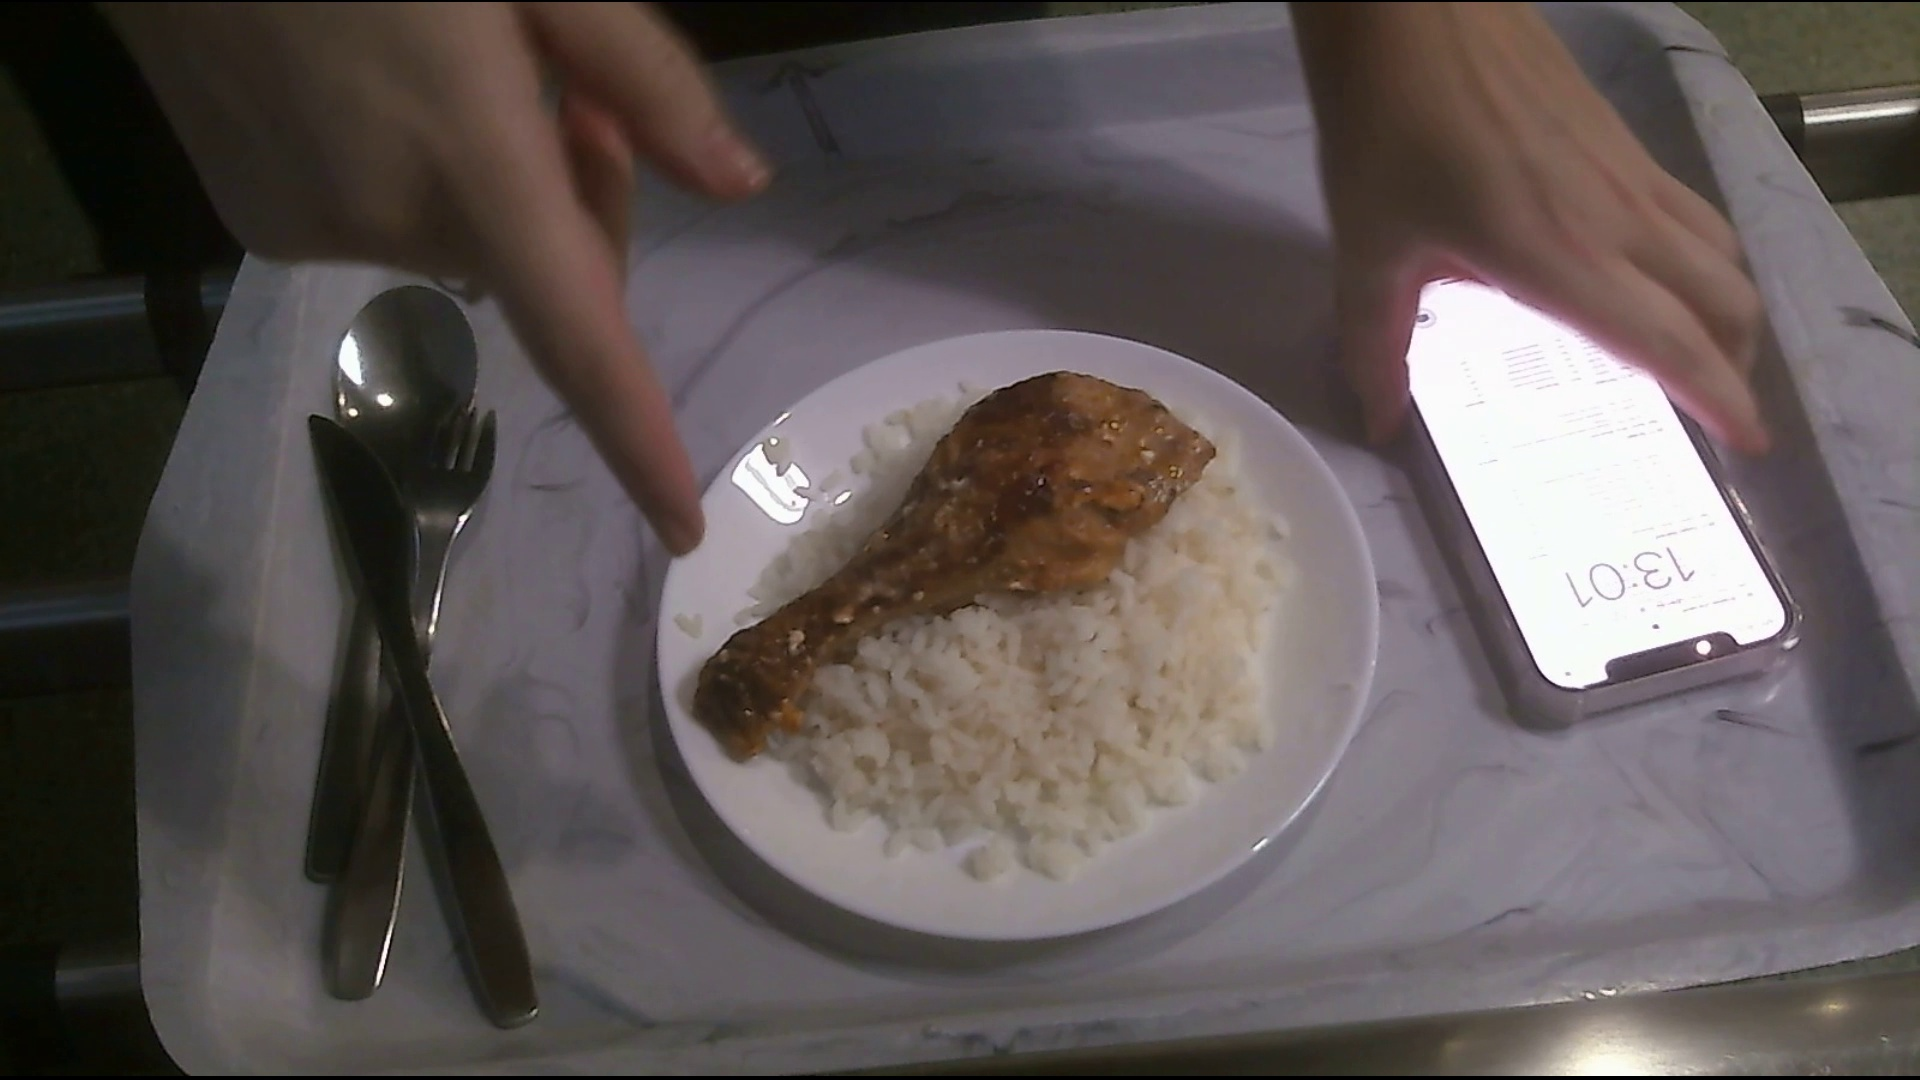cutlery: (309, 277, 543, 1036)
other: (1393, 269, 1797, 715)
plate: (650, 326, 1370, 944)
